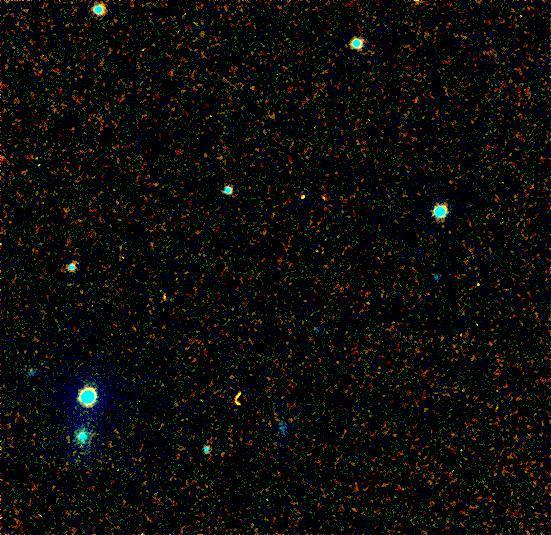star: (216, 377, 246, 407)
